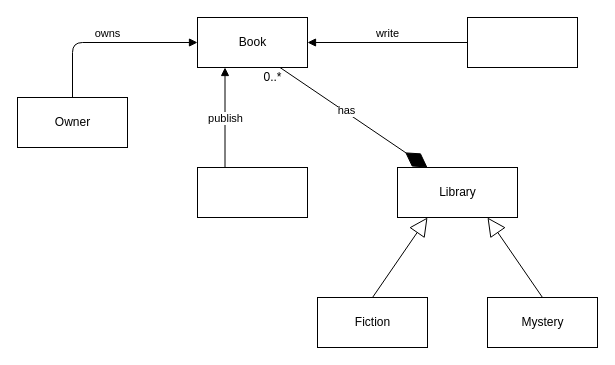
The diagram is 615 pixels wide and 365 high, and some of its shapes have lost their labels. Here are the shapes that lost their labels. From the top down, the centre of each, then its label:
At point (522, 42): "Author".
At point (252, 192): "Publisher".
